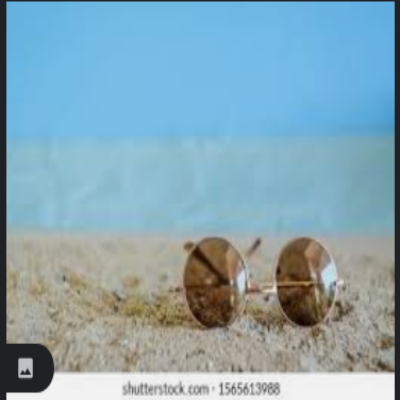glasses: (174, 233, 355, 333)
